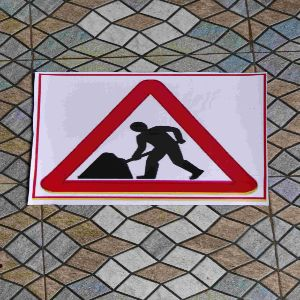men at work: (38, 74, 266, 197)
